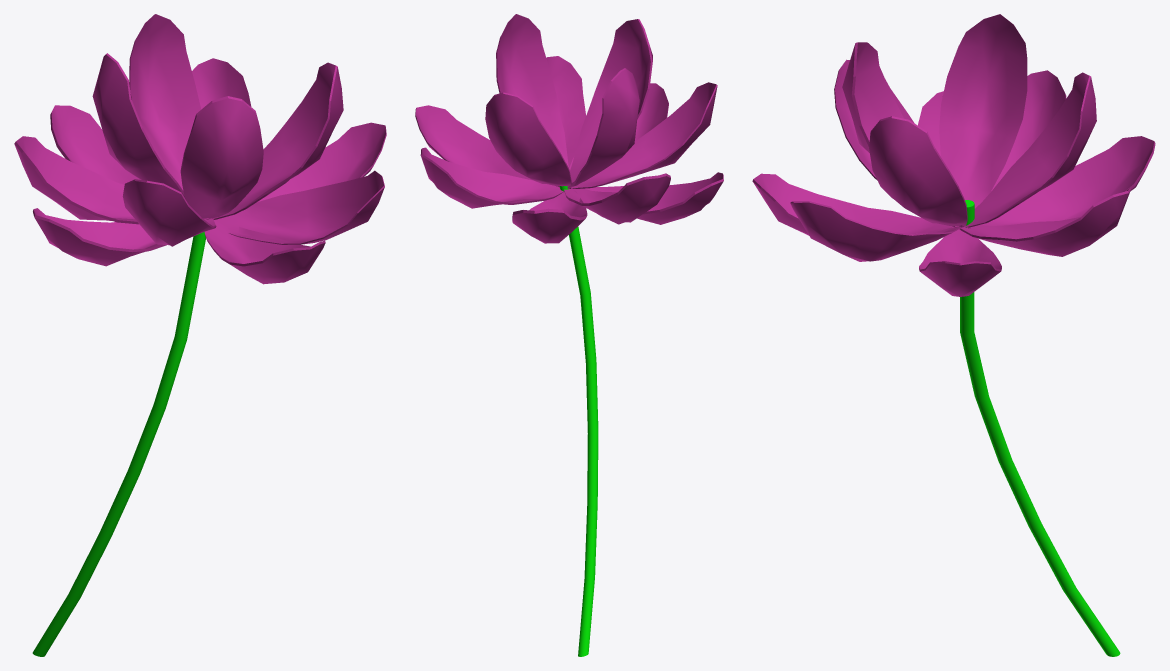
The model's file is Rengesou.fbx.
3 renders of one model, left to right at view 1: azimuth 30°, elevation 25°; view 2: azimuth 150°, elevation 25°; view 3: azimuth 270°, elevation 25°, orthographic. The views are drawn at different scales.
Parts seen in each view (by area): view 1: pPlane11, pPlane13, pPlane10, Cosmos:kuki, pPlane14, pPlane6, pPlane12, pPlane3, pPlane5, pPlane9, pPlane4, pPlane7 (+1 smaller); view 2: pPlane14, Cosmos:kuki, pPlane13, pPlane4, pPlane8, pPlane11, pPlane12, pPlane9, pPlane6, pPlane7, pPlane5, pPlane10 (+1 smaller); view 3: pPlane12, pPlane14, pPlane13, pPlane7, Cosmos:kuki, pPlane8, pPlane10, pPlane3, pPlane9, pPlane11, pPlane6, pPlane4 (+1 smaller).
Boxes of the visible parts, box(x1,y1,x2,y2) form: pPlane11: box(180, 96, 263, 218); pPlane13: box(129, 14, 201, 190); pPlane10: box(214, 170, 384, 244); Cosmos:kuki: box(32, 232, 205, 656); pPlane14: box(212, 62, 343, 219); pPlane6: box(14, 136, 138, 224); pPlane12: box(92, 53, 186, 200); pPlane3: box(204, 220, 325, 284); pPlane5: box(33, 208, 166, 266); pPlane9: box(257, 122, 386, 201); pPlane4: box(122, 179, 216, 246); pPlane7: box(50, 105, 212, 218); pPlane14: box(496, 14, 568, 167); Cosmos:kuki: box(559, 186, 598, 656); pPlane13: box(485, 92, 571, 186); pPlane4: box(556, 82, 717, 188); pPlane8: box(420, 147, 563, 208); pPlane11: box(570, 19, 652, 184); pPlane12: box(567, 68, 639, 188); pPlane9: box(415, 105, 577, 186); pPlane6: box(564, 173, 670, 224); pPlane7: box(512, 190, 587, 243); pPlane5: box(584, 172, 723, 224); pPlane10: box(546, 56, 585, 188); pPlane12: box(939, 14, 1027, 208); pPlane14: box(869, 116, 967, 225); pPlane13: box(964, 72, 1096, 227); pPlane7: box(952, 136, 1155, 226); Cosmos:kuki: box(960, 200, 1120, 656); pPlane8: box(959, 188, 1130, 256); pPlane10: box(790, 201, 961, 261); pPlane3: box(752, 173, 952, 235); pPlane9: box(919, 226, 1001, 296); pPlane11: box(842, 42, 903, 153); pPlane6: box(954, 70, 1066, 227); pPlane4: box(834, 59, 969, 228).
Bounding box in the file's own units: 36.53 × 62.8 × 35.49.
